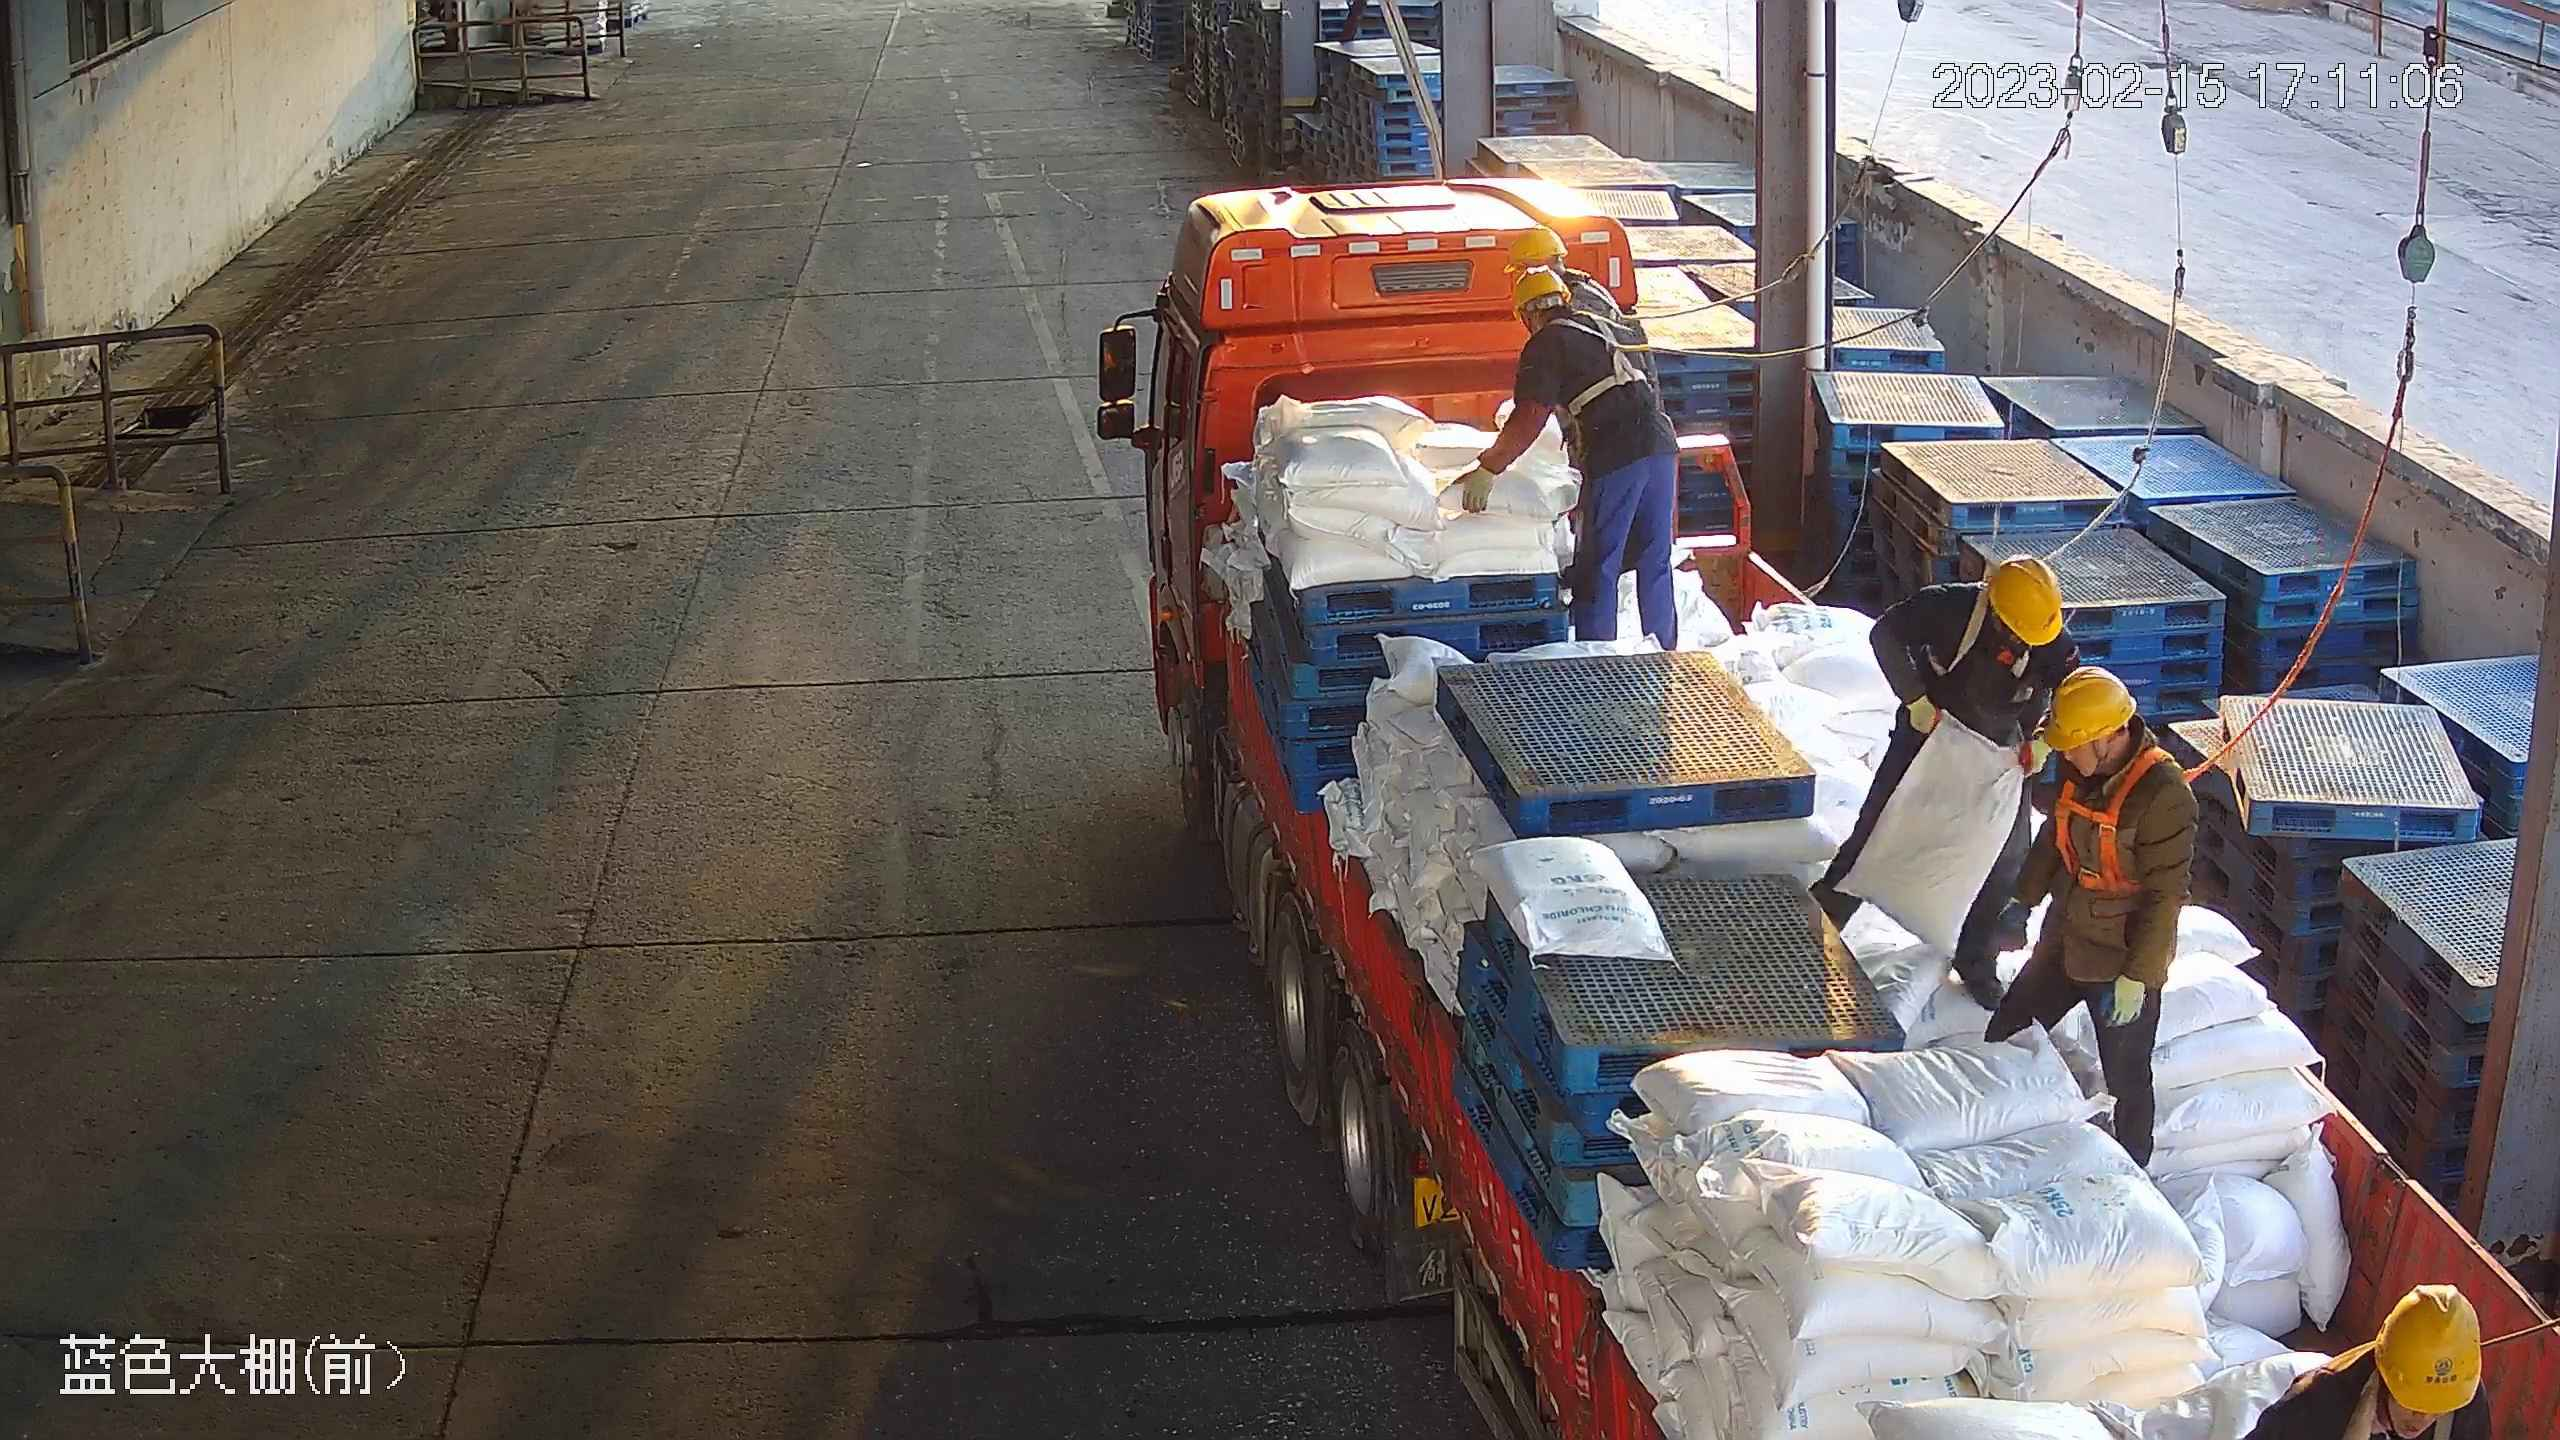belt: (2049, 754, 2162, 896), (1917, 582, 2042, 678), (1547, 313, 1657, 408), (2345, 1386, 2474, 1440), (1579, 272, 1657, 330)
head: (2244, 1276, 2491, 1440), (2022, 664, 2193, 837), (1922, 557, 2071, 691), (1508, 264, 1627, 396)
helmet: (2376, 1283, 2483, 1415), (2045, 667, 2132, 752), (1986, 557, 2059, 650), (1510, 269, 1571, 315), (1506, 227, 1567, 264)
people: (1810, 559, 2076, 1017), (1985, 664, 2200, 1177), (1459, 269, 1679, 652)
truck: (1090, 176, 2559, 1440)
